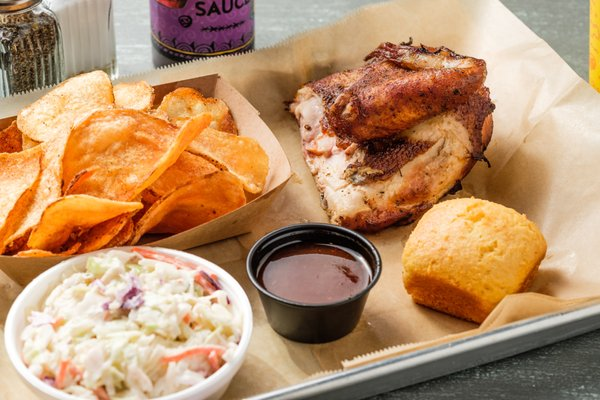pizza: (148, 0, 256, 69)
soup: (288, 40, 496, 232), (60, 105, 213, 207)
sushi: (3, 245, 253, 396), (245, 223, 383, 344)
